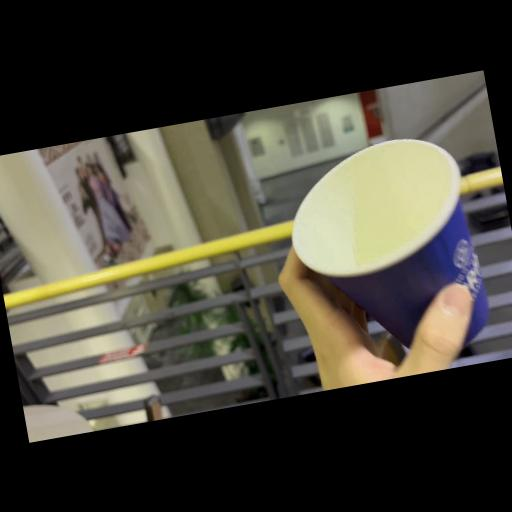lp_paper_cup: (276, 124, 496, 373)
